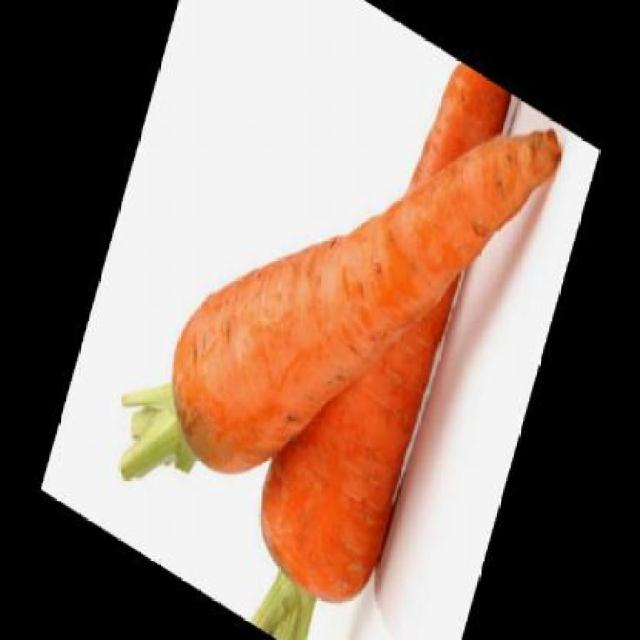carrot: (152, 0, 570, 614), (243, 18, 517, 630)
